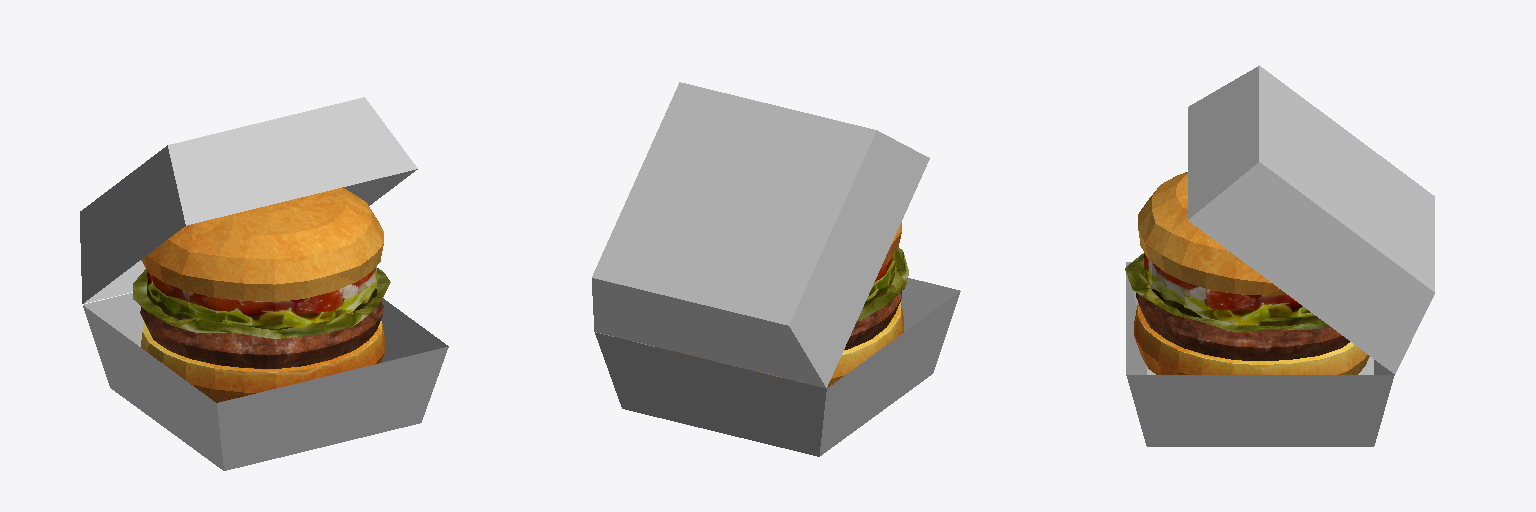
The picture shows the model from 3 angles: view 1: azimuth 30°, elevation 25°; view 2: azimuth 150°, elevation 25°; view 3: azimuth 270°, elevation 25°; orthographic projection.
Visible parts, largest first — view 1: Burger_Mesh; view 2: Burger_Mesh; view 3: Burger_Mesh.
Part boxes in pixels (bbox=[...]): Burger_Mesh: bbox=[80, 97, 448, 470]; Burger_Mesh: bbox=[592, 82, 960, 456]; Burger_Mesh: bbox=[1125, 65, 1434, 446].
Size of the model in its own units: 1.56 by 1.82 by 1.8.
Materials: 2 (1 with a texture image).